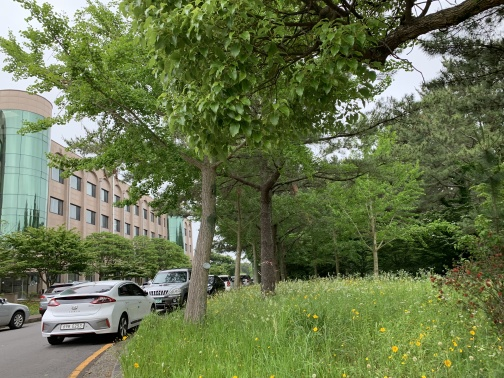Natural Science2: (2, 86, 195, 250)
